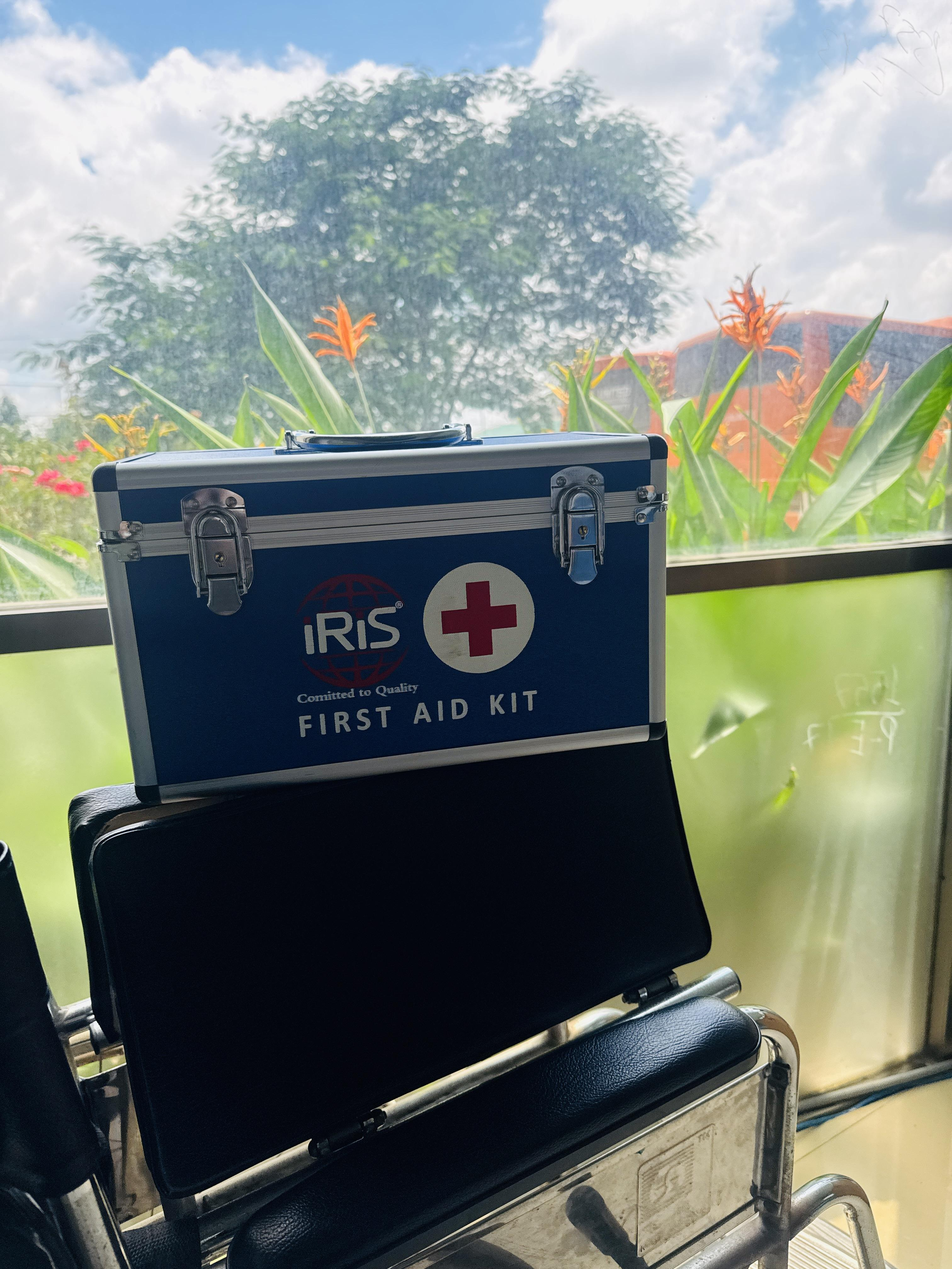FirstAidBox: (77, 396, 736, 823)
